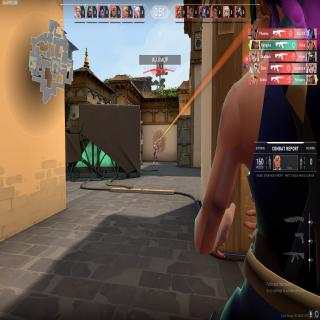ENEMY-BODY: (153, 141, 158, 164)
ENEMY-HEAD: (154, 142, 156, 145)
